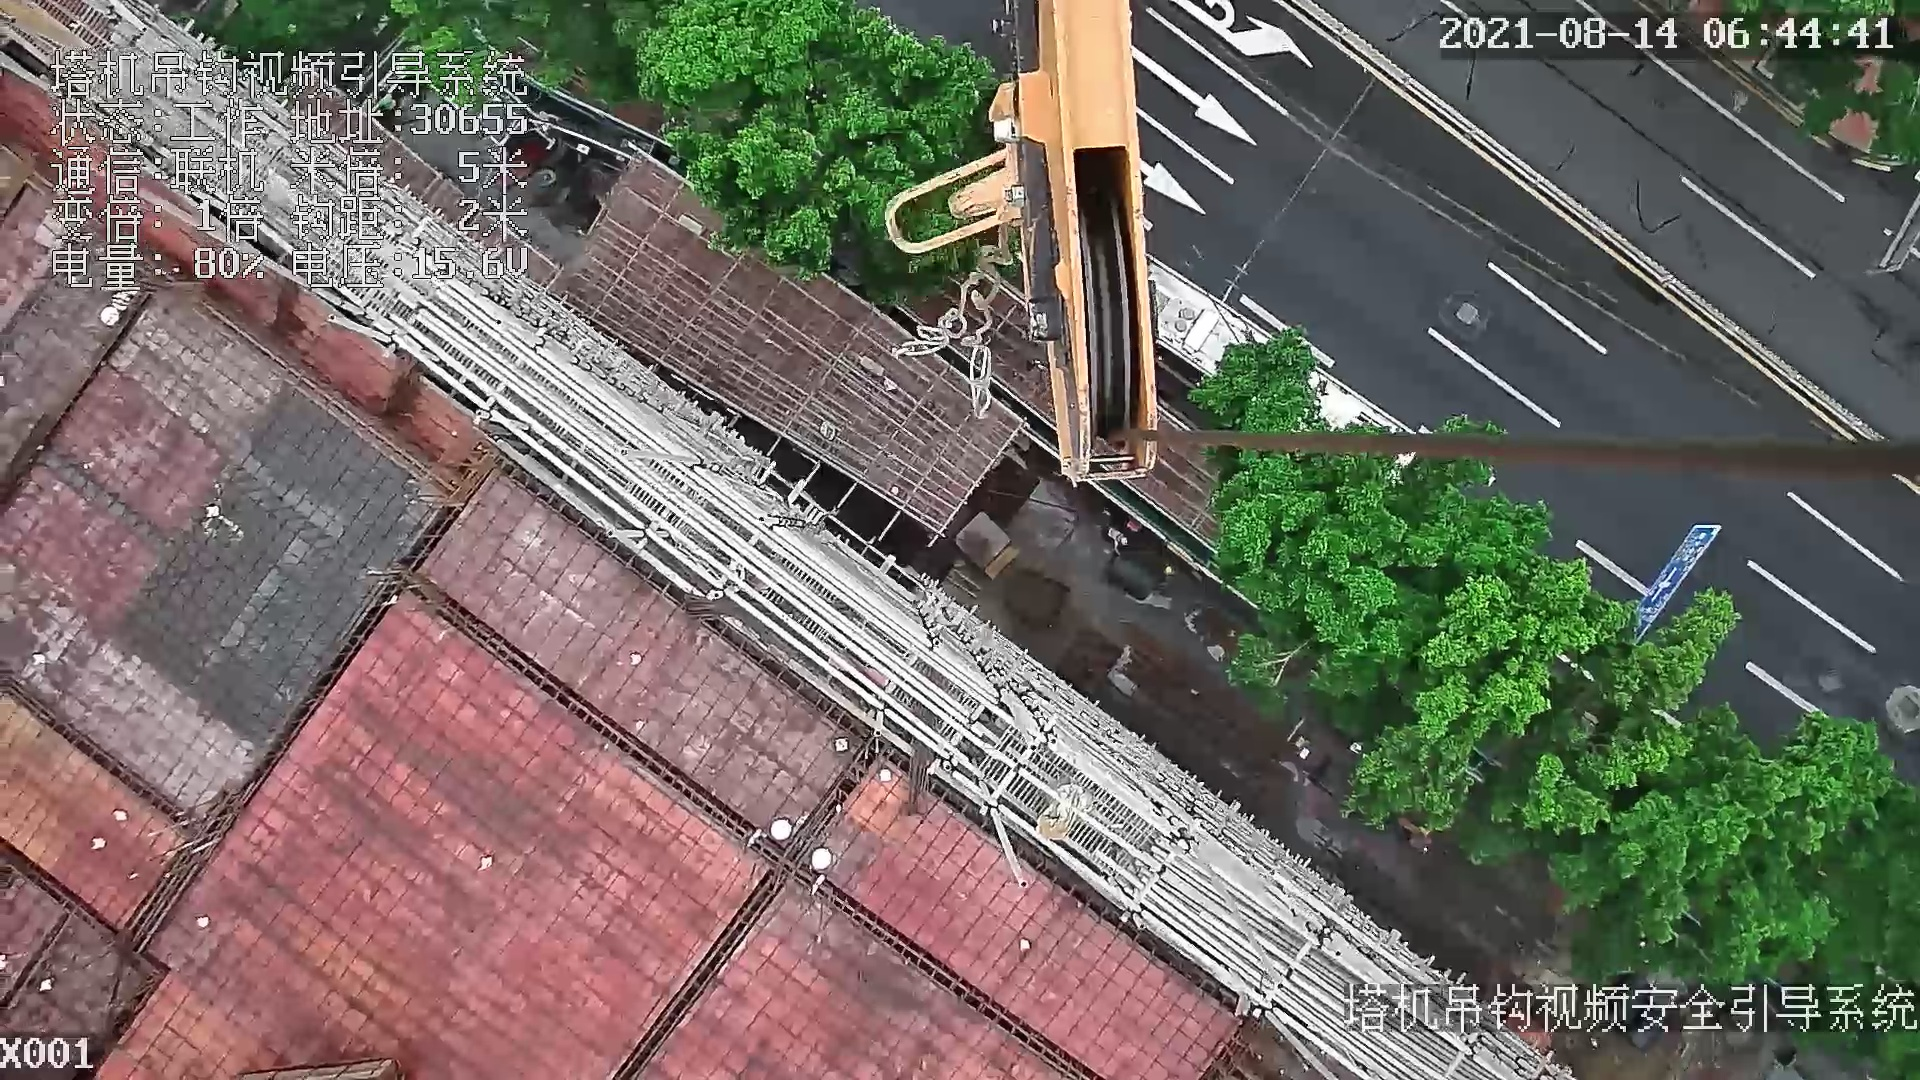hook: (878, 9, 1162, 485)
person: (1103, 524, 1129, 556)
